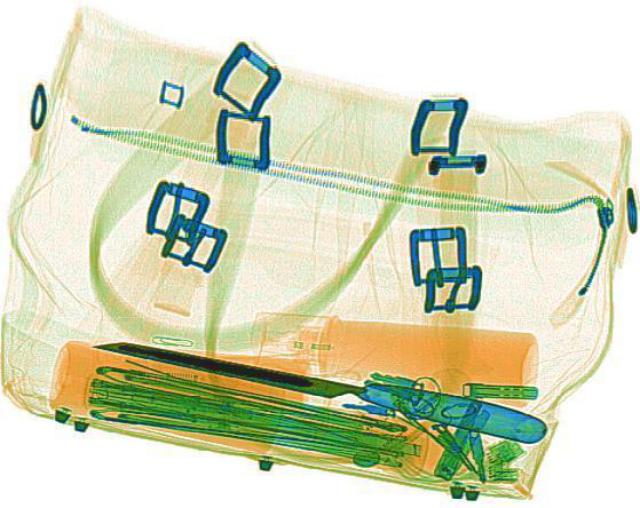Knife: (86, 320, 550, 441)
